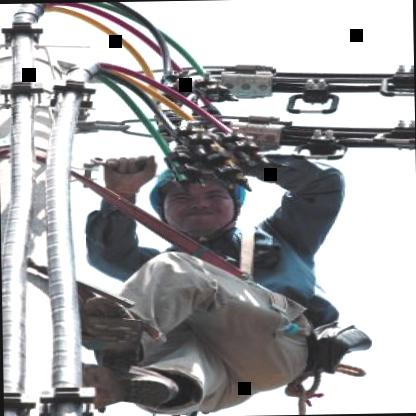helmet: (134, 156, 254, 242)
